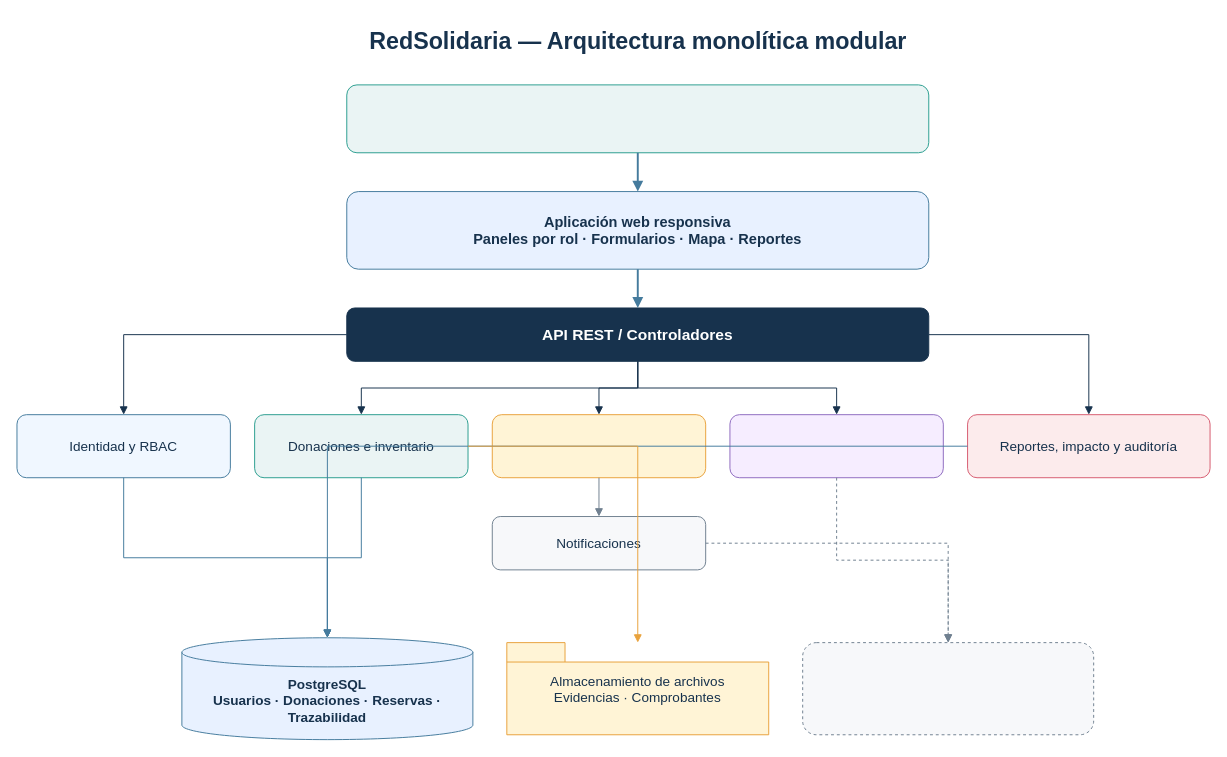
Some shapes in this 1227 by 757 pixel diagram are drawn without their labels. The shapes that lost their labels are listed below. From the top down, each one's centre as x and y in pixels, then its label:
At (x=637, y=118): "Usuarios Empresas donantes · Organizaciones sociales · Administración".
At (x=598, y=446): "Asignación y reservas".
At (x=836, y=446): "Centros y geolocalización".
At (x=948, y=688): "Servicios externos Mapas/geocodificación · Correo/SMS".
